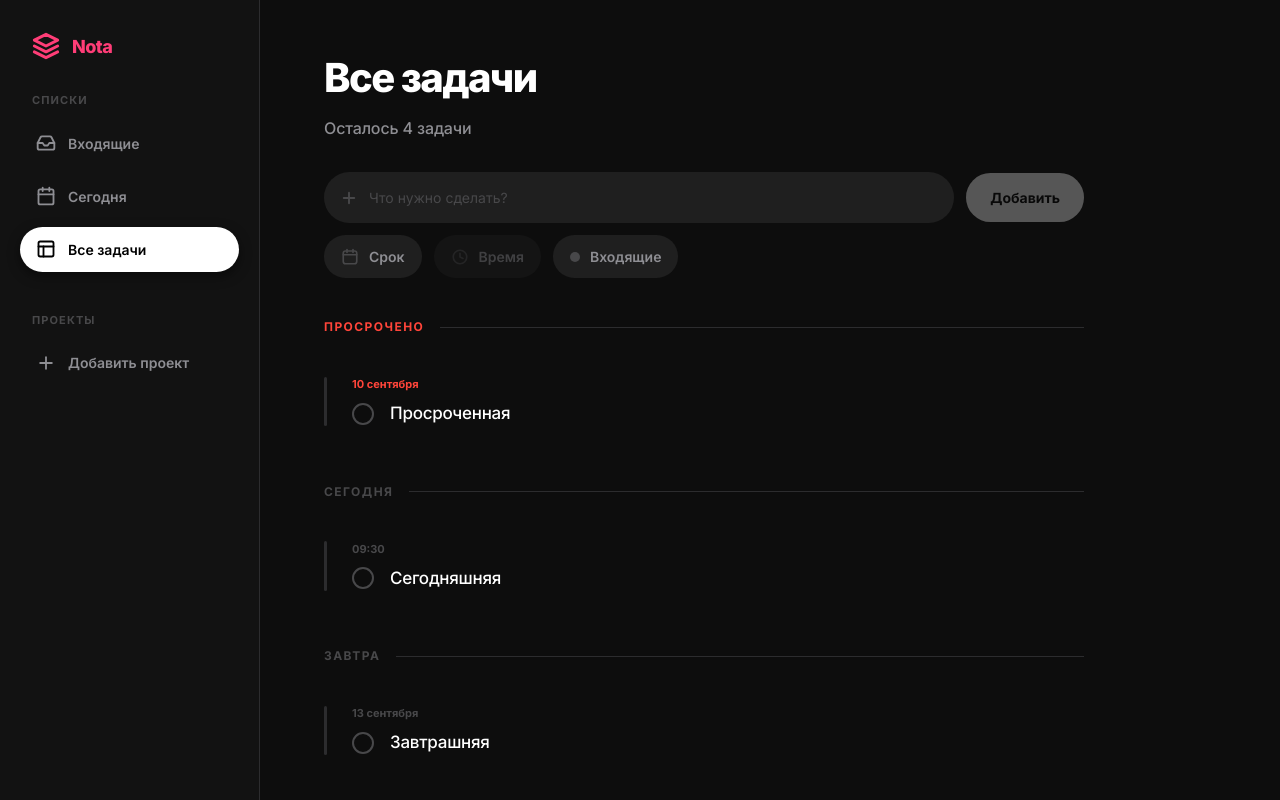
Test: раздел «Сегодня» › оставляет просроченное и сегодняшнее, пряча остальное
The width and height of the screenshot is (1280, 800).
expect the button "Завтрашняя" is shown: met, box [390,730,490,756]
Click the button "Сегодня" at (130, 196), box [20,174,239,218]
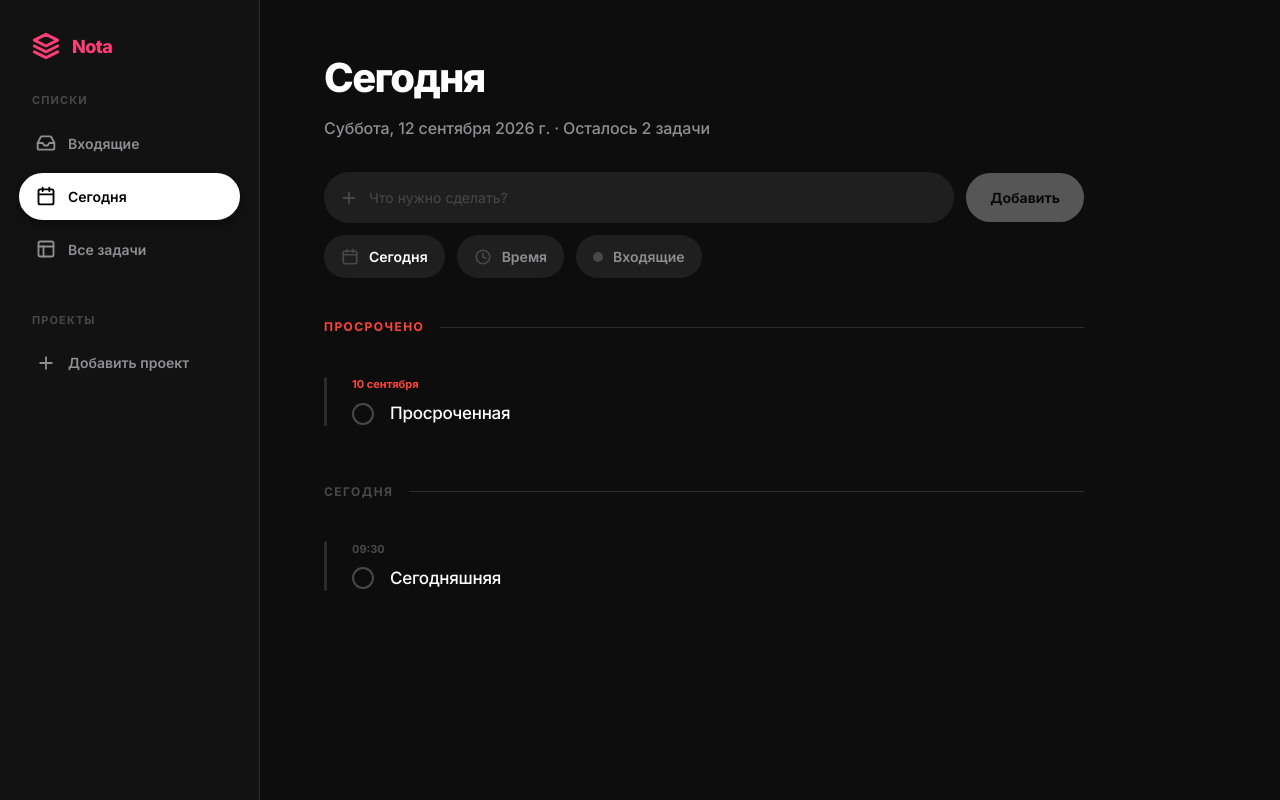
expect the button "Просроченная" is shown: met, box [390,401,510,426]
expect the button "Завтрашняя" is gone: met
